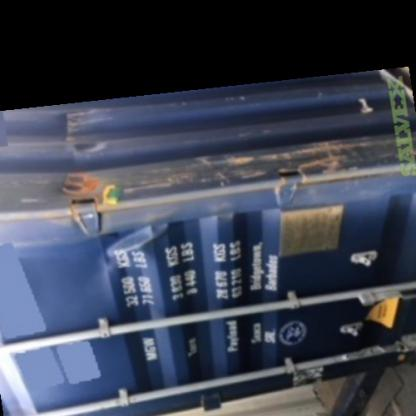Damage: (168, 140, 394, 208), (95, 221, 162, 276), (4, 170, 96, 208), (54, 106, 102, 162)
